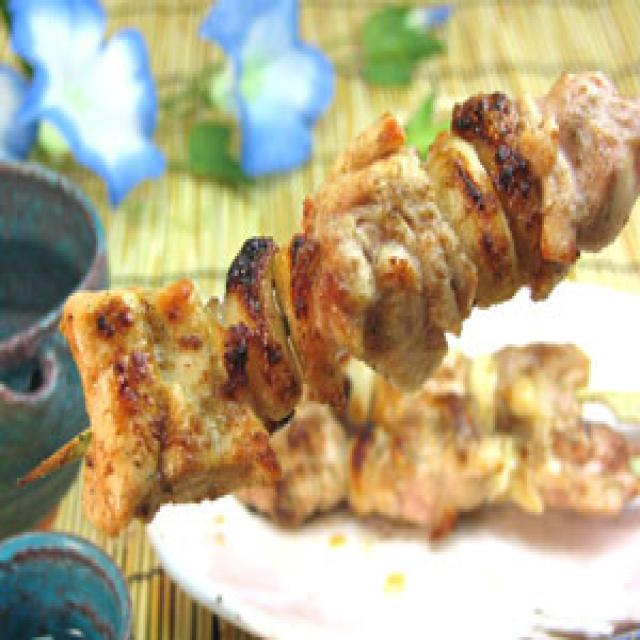烧串烤肉: (8, 59, 640, 540)
